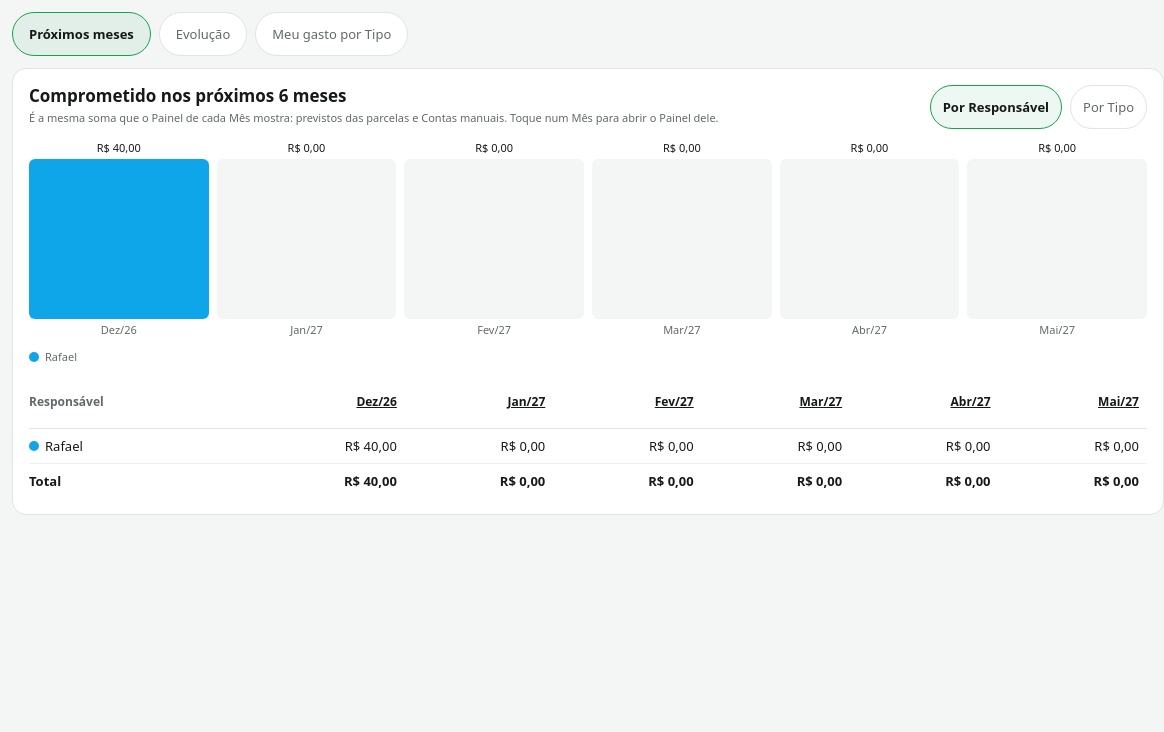
it: o seletor de Mês é da aba › Mês futuro (as setas andam sem limite): previstos entram e o texto diz 'inclui previstos'
Click the tab "Meu gasto por Tipo" at (332, 34), box [255, 12, 408, 56]
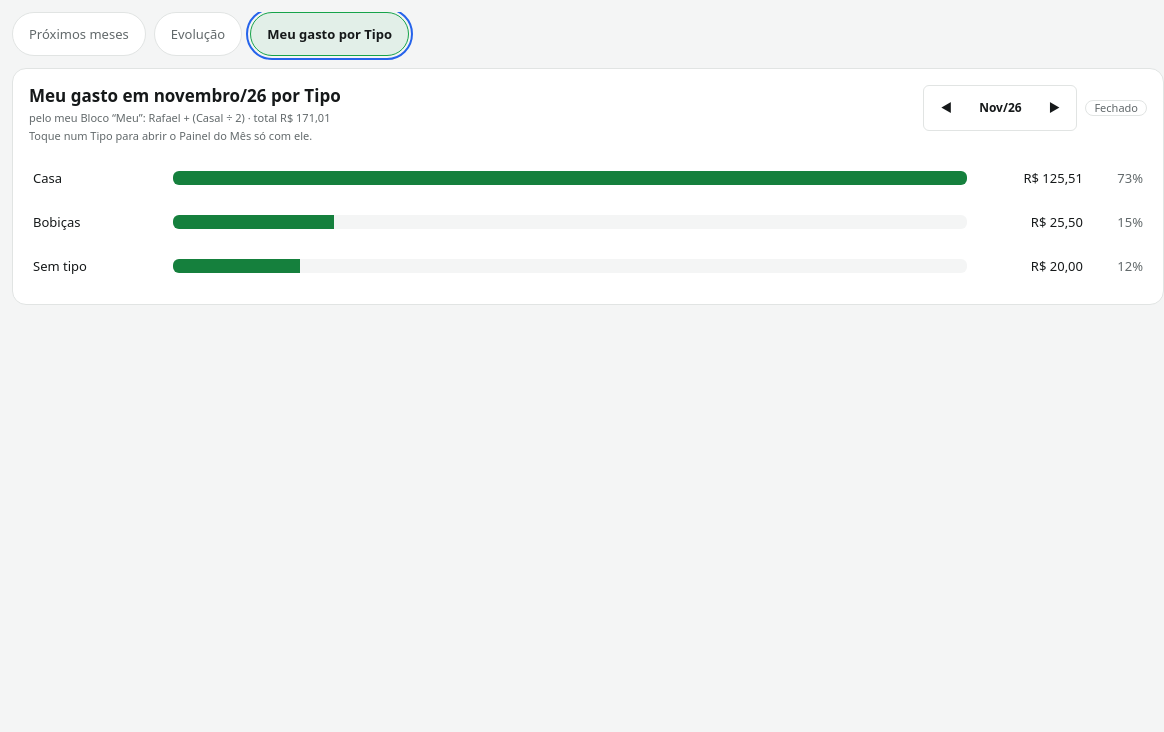
Click the button named "Próximo mês" at (1054, 108), box [1032, 86, 1076, 130]
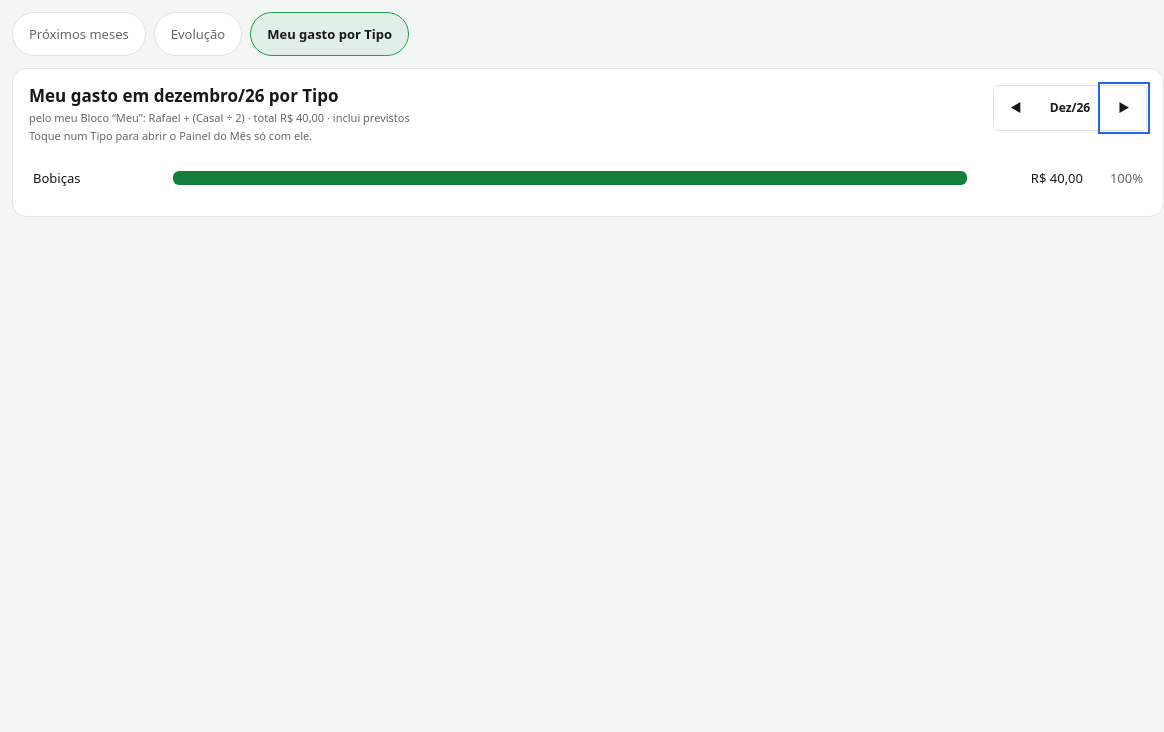
Expected: the heading "Meu gasto em dezembro/26 por Tipo" is shown, [29, 84, 339, 107]
Expected: the text "inclui previstos" is shown, [324, 110, 410, 125]
